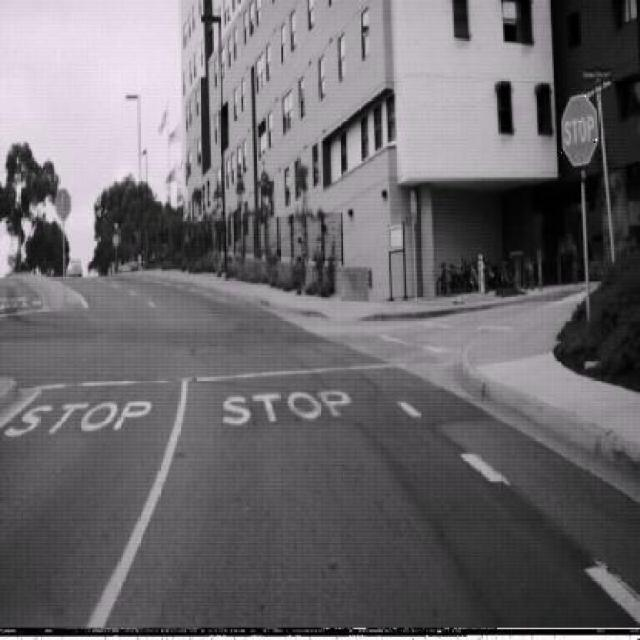stop: (560, 94, 599, 168)
